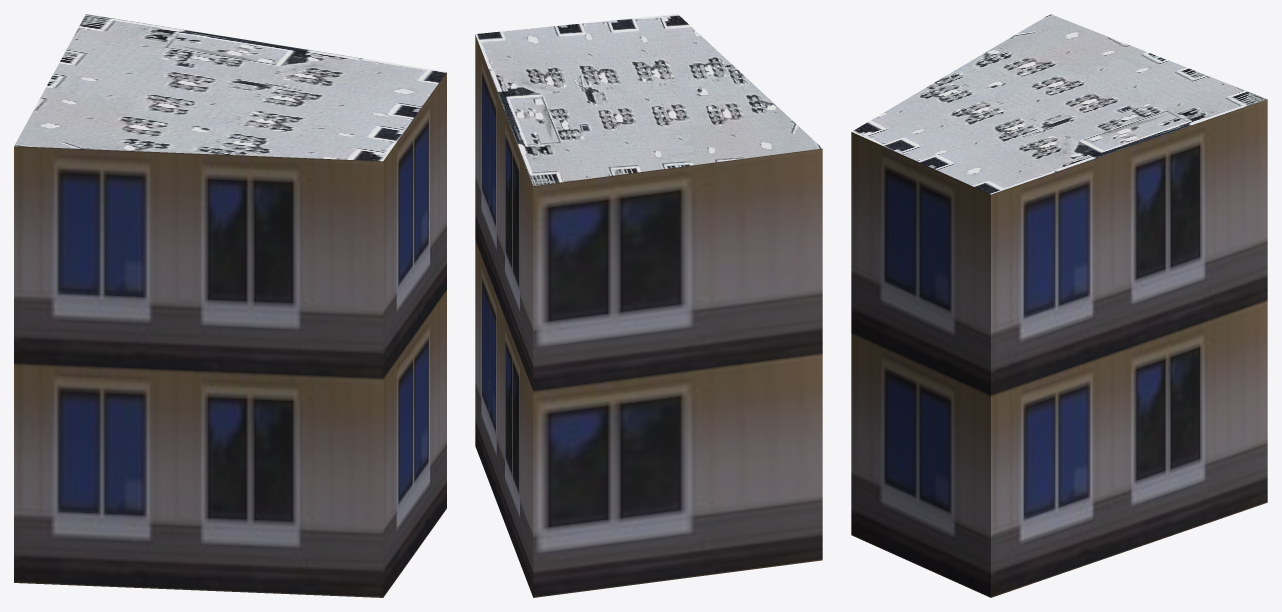
The model's file is ResTex__485.fbx.
The picture shows the model from 3 angles, left to right: view 1: azimuth 30°, elevation 25°; view 2: azimuth 150°, elevation 25°; view 3: azimuth 270°, elevation 25°; orthographic projection. The views are drawn at different scales.
Visible parts, largest first — view 1: CityEngineMaterial_5_m, CityEngineMaterial_m; view 2: CityEngineMaterial_5_m, CityEngineMaterial_m; view 3: CityEngineMaterial_5_m, CityEngineMaterial_m.
Part boxes in pixels (box(x1,y1,x2,y2)): CityEngineMaterial_5_m: box(14, 72, 446, 597); CityEngineMaterial_m: box(14, 14, 446, 161); CityEngineMaterial_5_m: box(475, 35, 822, 597); CityEngineMaterial_m: box(475, 14, 822, 185); CityEngineMaterial_5_m: box(851, 99, 1267, 597); CityEngineMaterial_m: box(851, 14, 1266, 194).
Bounding box in the file's own units: 5.76 × 6 × 5.61.
Materials: 2 (2 with a texture image).
